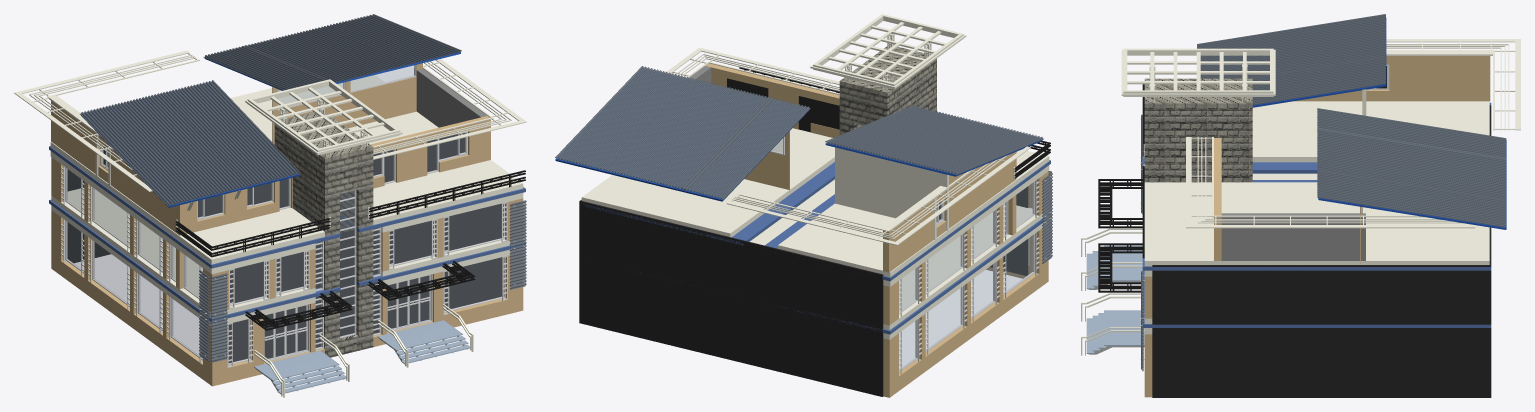
3 renders of one model, left to right at view 1: azimuth 30°, elevation 25°; view 2: azimuth 150°, elevation 25°; view 3: azimuth 270°, elevation 25°, orthographic. The views are drawn at different scales.
Parts seen in each view (by area): view 1: cadnav, Rectangle48, Line08, Rectangle33, Line02, Rectangle49, Rectangle29, Rectangle61, Rectangle62, Rectangle34, Line04, Rectangle35 (+1 smaller); view 2: cadnav, Line04, Rectangle31, Line08, Line02, Rectangle49, Rectangle33, Rectangle48, Rectangle32, Line290; view 3: cadnav, Line04, Rectangle62, Line02, Line08, Rectangle61, Rectangle34, Rectangle32, Line260, Line234, Line236, Line238 (+56 smaller).
Part boxes in pixels (left/top/right/bottom): cadnav: left=49, top=52, right=525, bottom=386; Rectangle48: left=228, top=204, right=501, bottom=362; Line08: left=14, top=50, right=199, bottom=191; Rectangle33: left=272, top=63, right=422, bottom=144; Line02: left=373, top=59, right=526, bottom=159; Rectangle49: left=198, top=133, right=464, bottom=217; Rectangle29: left=198, top=133, right=465, bottom=217; Rectangle61: left=377, top=320, right=469, bottom=364; Rectangle62: left=414, top=68, right=487, bottom=127; Rectangle34: left=254, top=350, right=346, bottom=394; Line04: left=67, top=169, right=110, bottom=262; Rectangle35: left=351, top=65, right=414, bottom=90; cadnav: left=555, top=14, right=1050, bottom=397; Line04: left=579, top=200, right=883, bottom=396; Rectangle31: left=835, top=147, right=948, bottom=230; Line08: left=726, top=146, right=1030, bottom=245; Line02: left=566, top=47, right=839, bottom=145; Rectangle49: left=727, top=78, right=839, bottom=132; Rectangle33: left=744, top=131, right=789, bottom=191; Rectangle48: left=990, top=186, right=1028, bottom=275; Rectangle32: left=882, top=168, right=975, bottom=231; Line290: left=720, top=106, right=810, bottom=200; cadnav: left=1098, top=18, right=1506, bottom=397; Line04: left=1152, top=105, right=1491, bottom=397; Rectangle62: left=1221, top=213, right=1365, bottom=260; Line02: left=1186, top=137, right=1475, bottom=228; Line08: left=1386, top=39, right=1520, bottom=130; Rectangle61: left=1086, top=310, right=1144, bottom=353; Rectangle34: left=1086, top=245, right=1142, bottom=289; Rectangle32: left=1386, top=51, right=1492, bottom=55; Line260: left=1317, top=196, right=1506, bottom=227; Line234: left=1317, top=167, right=1506, bottom=198; Line236: left=1317, top=164, right=1506, bottom=195; Line238: left=1317, top=161, right=1506, bottom=192.
Size of the model in its own units: 22900 by 13500 by 22831.
